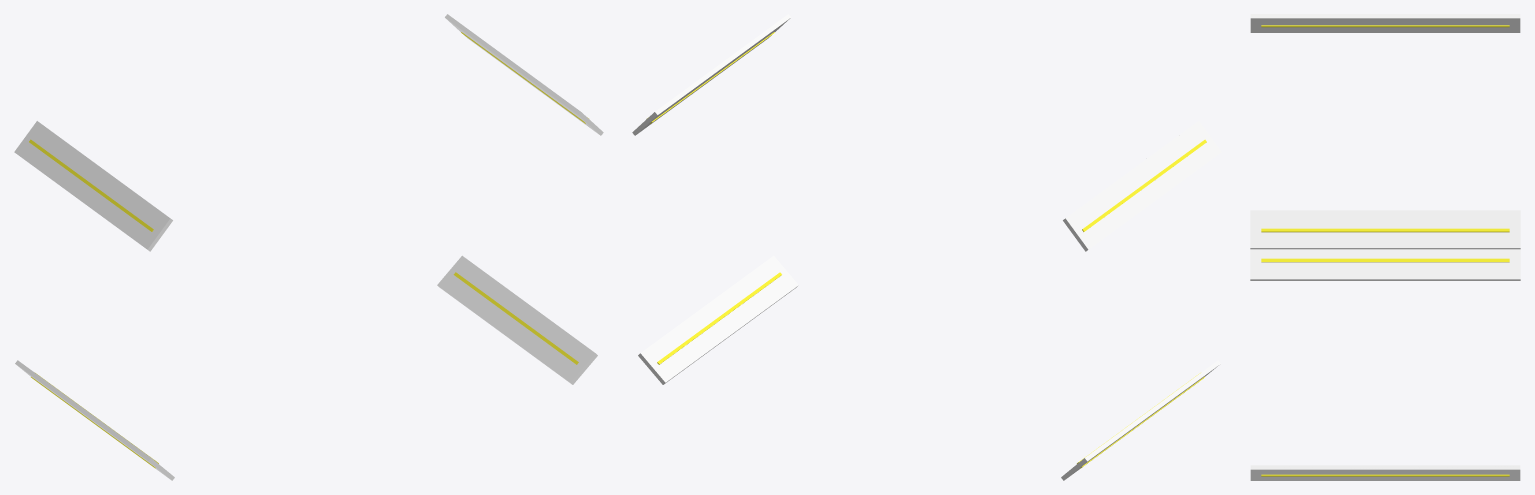
The model's file is GravityAttachment.FBX.
3 renders of one model, left to right at view 1: azimuth 30°, elevation 25°; view 2: azimuth 150°, elevation 25°; view 3: azimuth 270°, elevation 25°, orthographic.
Parts seen in each view (by area): view 1: Box001, Box006, Box007, Box005, Box010; view 2: Box001, Box006, Box007, Box005, Box010; view 3: Box007, Box005, Box006, Box001, Box008, Box009, Box010, Box011.
Part boxes in pixels (x1=…): Box001: x1=437, y1=255, x2=597, y2=384; Box006: x1=14, y1=121, x2=172, y2=251; Box007: x1=445, y1=14, x2=603, y2=135; Box005: x1=15, y1=360, x2=174, y2=480; Box010: x1=453, y1=272, x2=578, y2=364; Box001: x1=638, y1=255, x2=798, y2=384; Box006: x1=1063, y1=121, x2=1221, y2=251; Box007: x1=632, y1=14, x2=790, y2=135; Box005: x1=1061, y1=360, x2=1220, y2=480; Box010: x1=657, y1=272, x2=781, y2=364; Box007: x1=1250, y1=210, x2=1520, y2=249; Box005: x1=1250, y1=249, x2=1520, y2=280; Box006: x1=1250, y1=14, x2=1520, y2=32; Box001: x1=1250, y1=465, x2=1520, y2=480; Box008: x1=1261, y1=258, x2=1509, y2=262; Box009: x1=1261, y1=228, x2=1509, y2=232; Box010: x1=1261, y1=474, x2=1509, y2=476; Box011: x1=1261, y1=25, x2=1509, y2=27.
Bounding box in the file's own units: 221 × 126 × 112.
2 materials, 2 textured.
